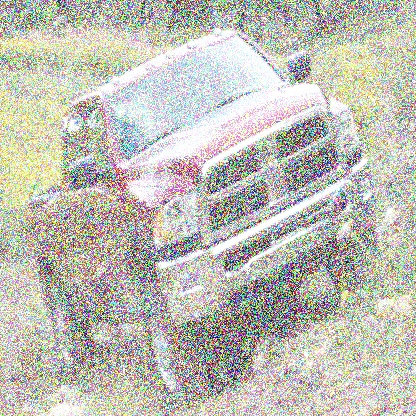Vehicle: (22, 24, 381, 402)
